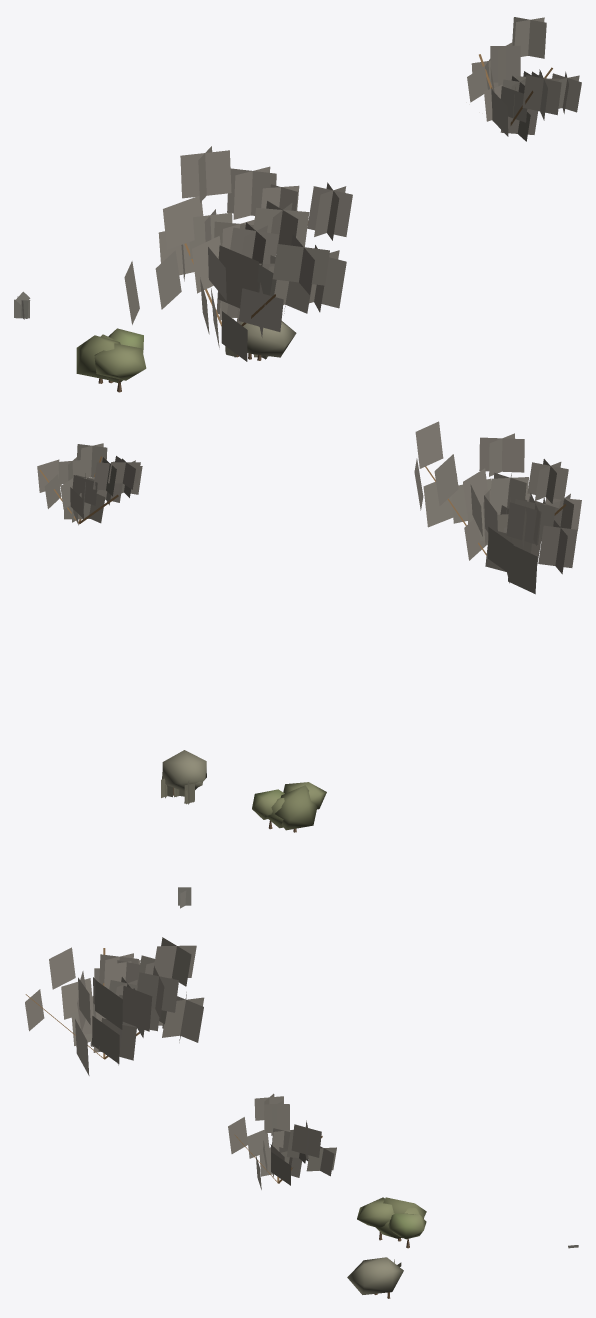
File: coast_land_scatter_c14_18.glb
3 renders of one model, top to bottom at view 1: azimuth 30°, elevation 25°; view 2: azimuth 150°, elevation 25°; view 3: azimuth 270°, elevation 25°, orthographic. The views are drawn at different scales.
Parts seen in each view (by area): view 1: coast_land_scatter_c14_18; view 2: coast_land_scatter_c14_18; view 3: coast_land_scatter_c14_18.
Part boxes in pixels (bbox=[...]): coast_land_scatter_c14_18: bbox=[14, 17, 581, 392]; coast_land_scatter_c14_18: bbox=[37, 421, 581, 908]; coast_land_scatter_c14_18: bbox=[25, 937, 578, 1298].
Bounding box in the file's own units: 11.56 × 7.31 × 12.75.
